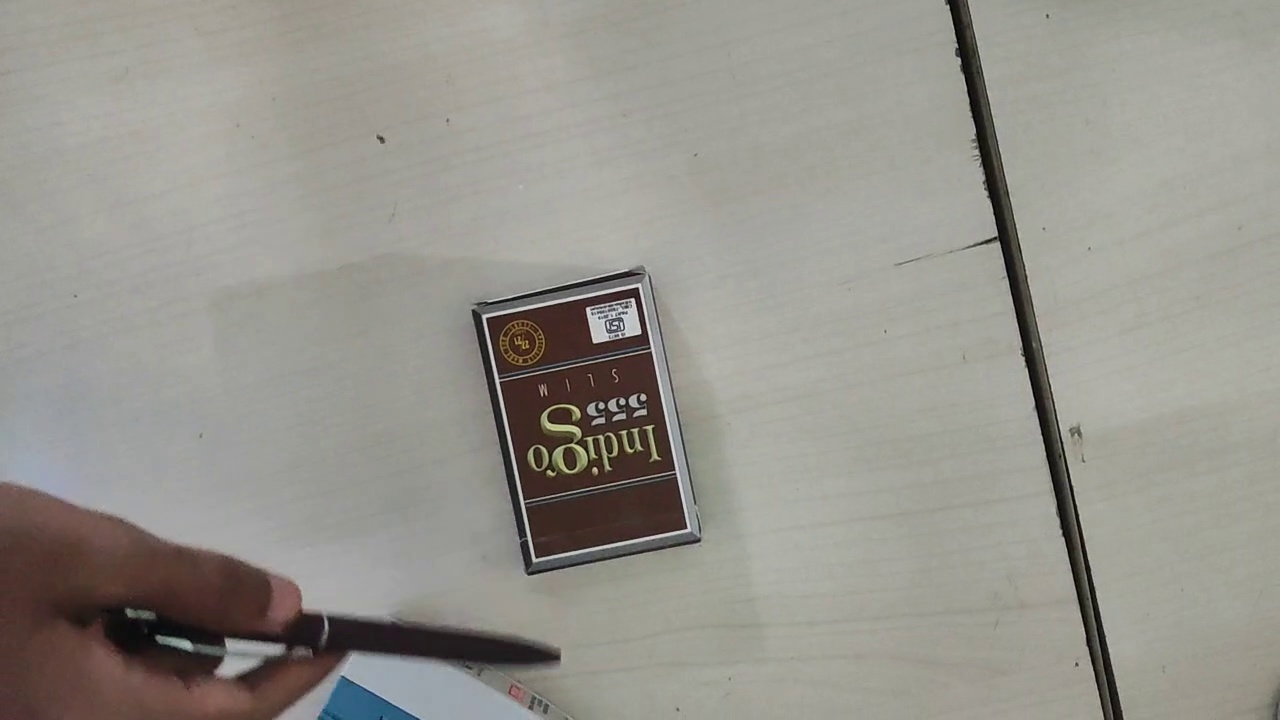BEX: (484, 284, 688, 560)
